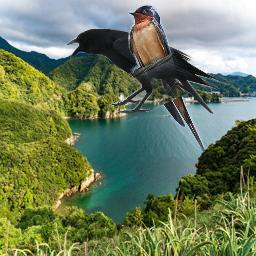Crow: (66, 28, 222, 115)
Swallow: (128, 4, 205, 152)
